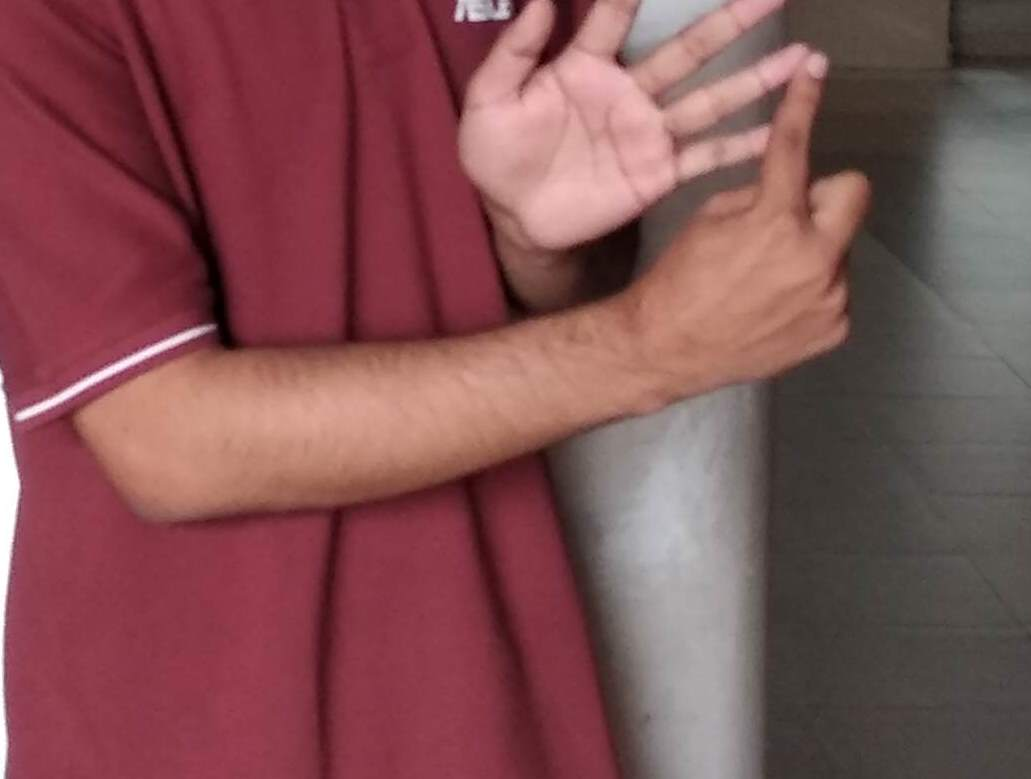e: (523, 5, 874, 303)
